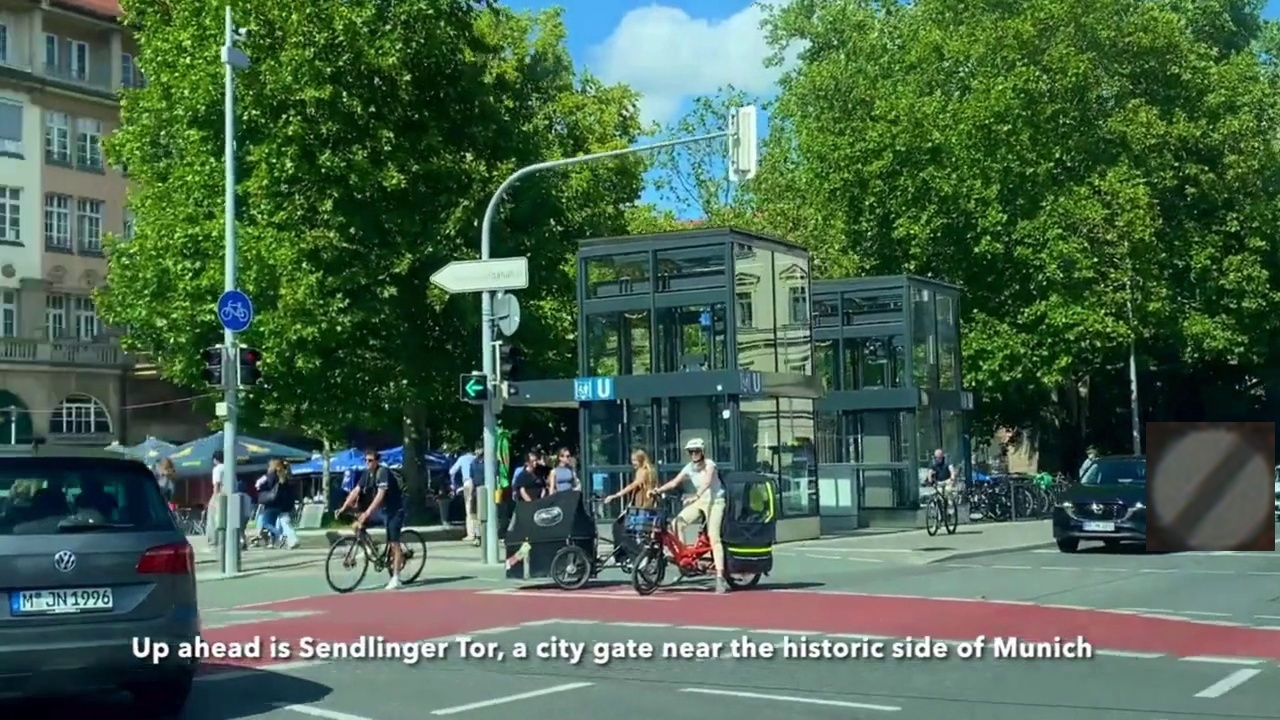End limits: (1146, 422, 1275, 551)
